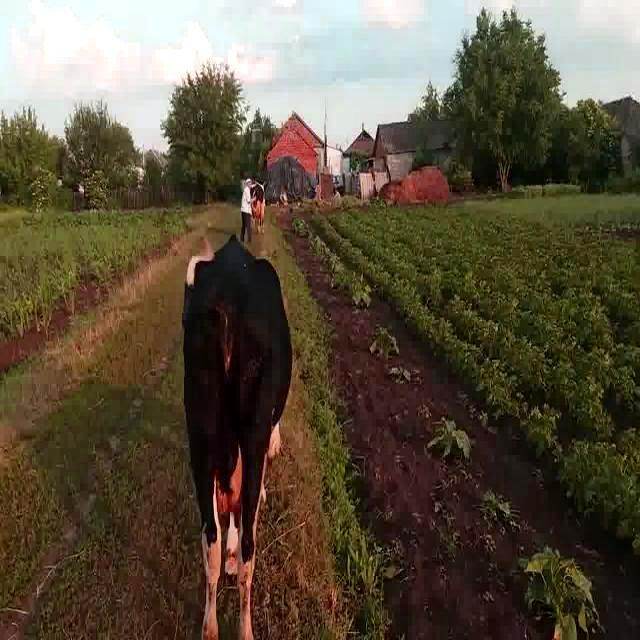COW: (182, 235, 291, 639)
